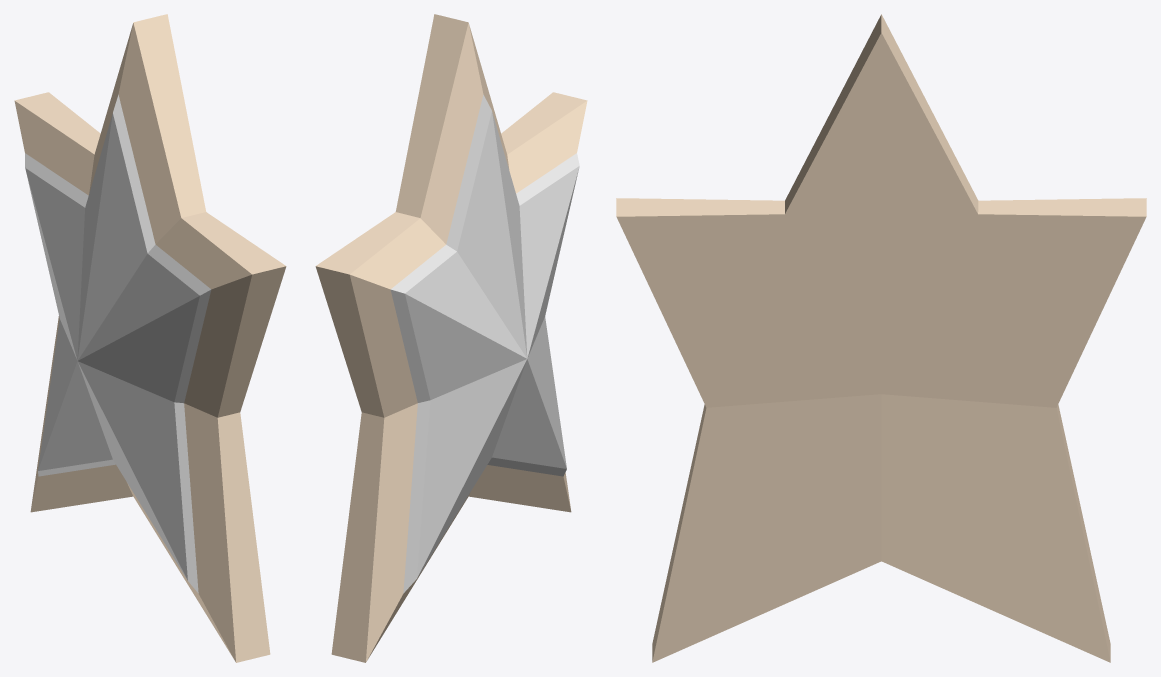
File: Star.fbx
3 views of the same model, side by side, from view 1: azimuth 30°, elevation 25°; view 2: azimuth 150°, elevation 25°; view 3: azimuth 270°, elevation 25° (orthographic). The views are drawn at different scales.
Parts seen in each view (by area): view 1: Star; view 2: Star; view 3: Star.
Boxes of the visible parts, box(x1,y1,x2,y2) form: Star: box(14, 14, 286, 662); Star: box(315, 14, 587, 662); Star: box(616, 14, 1146, 662).
Size of the model in its own units: 28.66 by 169 by 129.
